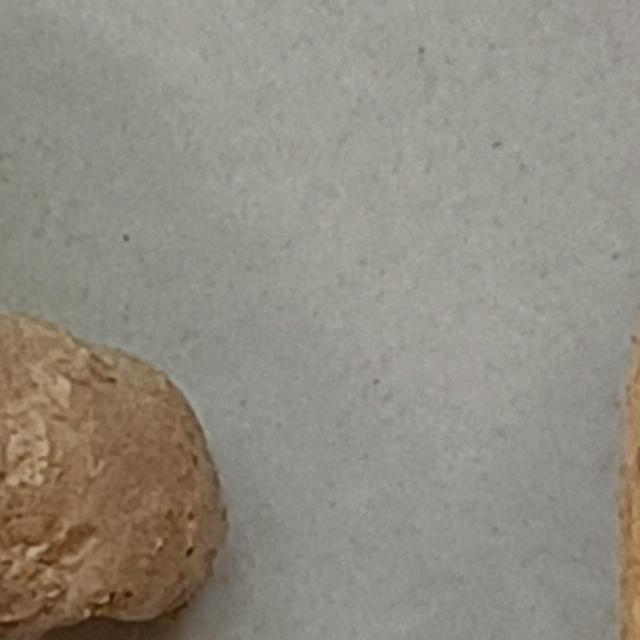ginger: (0, 0, 232, 640)
